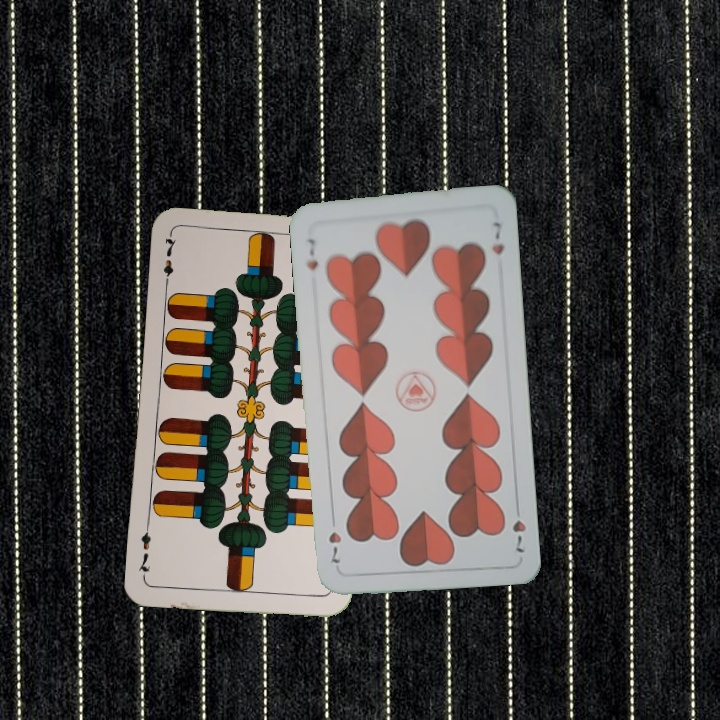E7: (159, 232, 179, 291)
H7: (508, 516, 529, 556), (303, 234, 321, 273)
